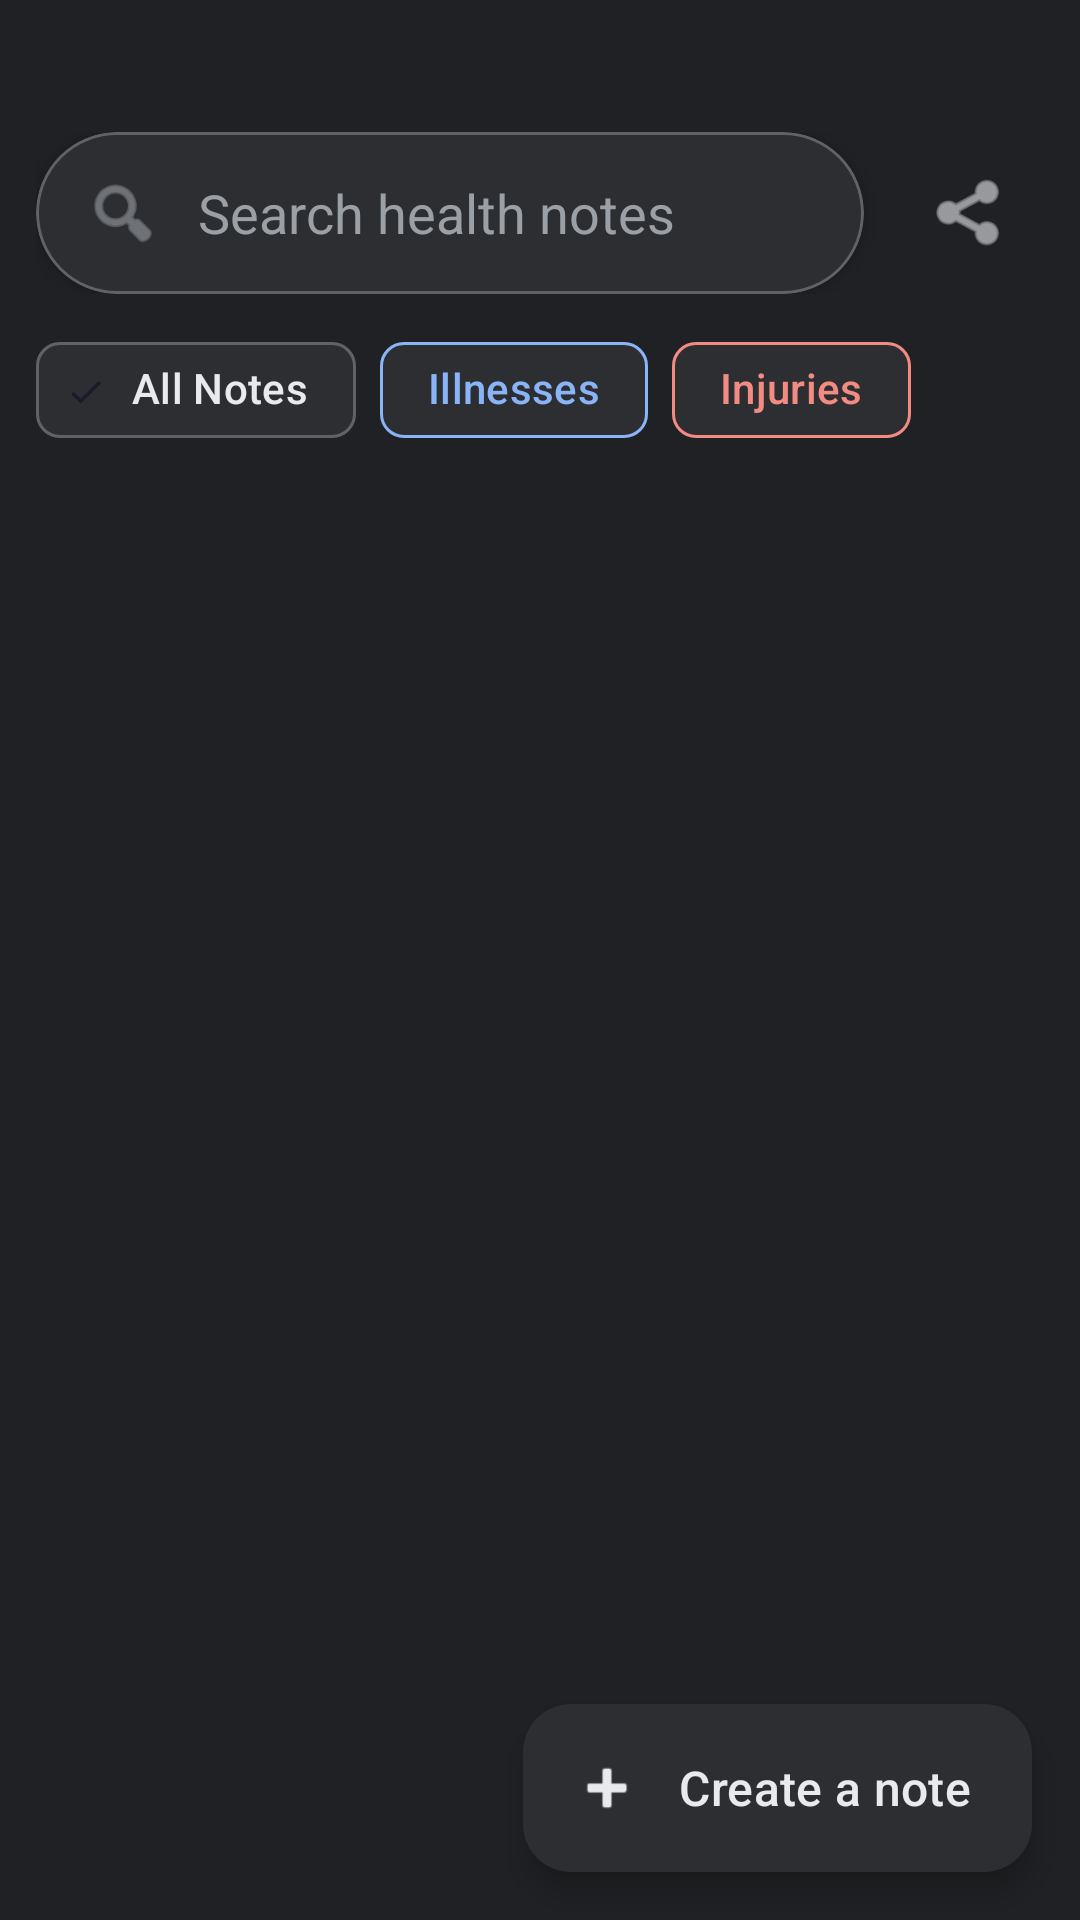

Point at icon controls on the screen. Image size 1080x1920, points as (x,y).
Share: (967,212)
